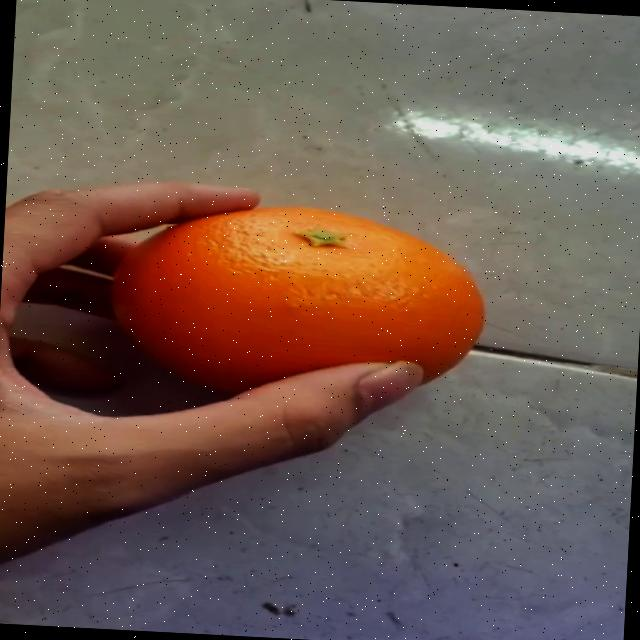orange: (98, 180, 501, 434)
